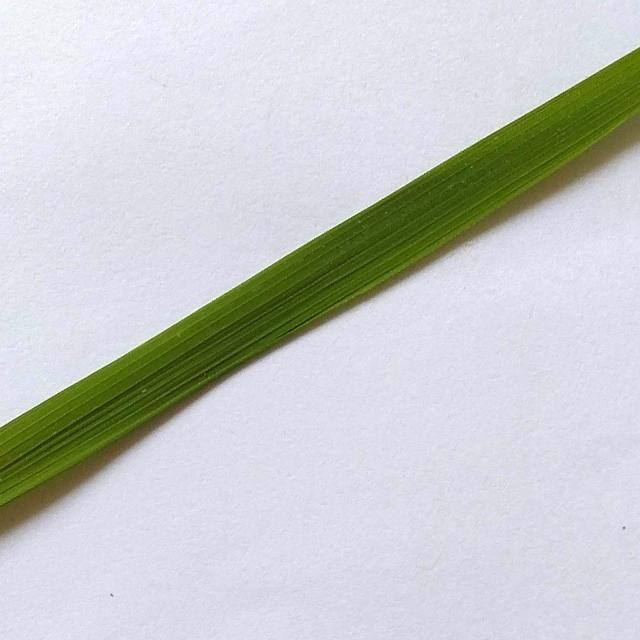healthy: (0, 1, 640, 508)
